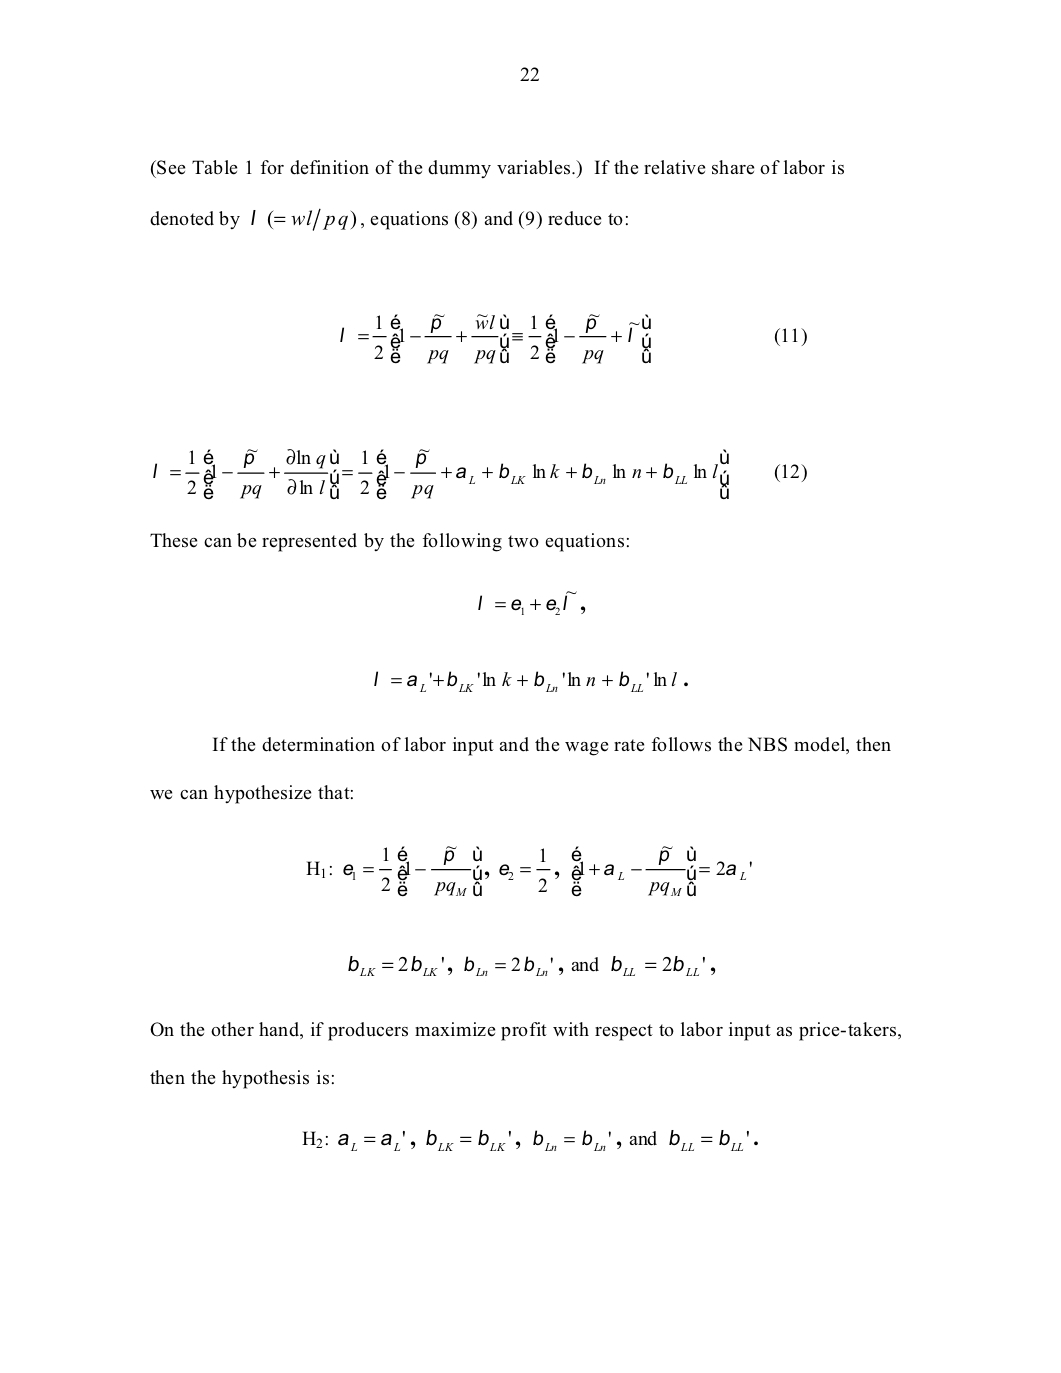formula: (153, 448, 806, 500), (340, 312, 806, 364), (306, 845, 751, 897), (302, 1128, 757, 1151), (348, 955, 716, 976), (374, 670, 687, 692), (478, 590, 585, 615)
